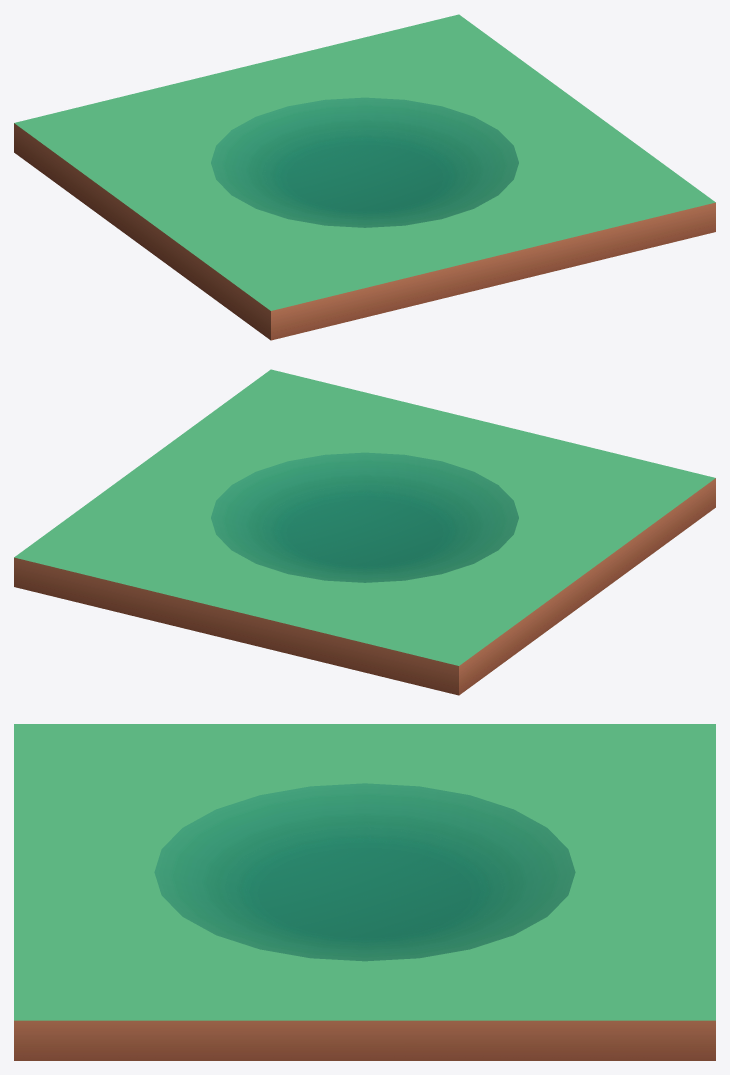
Rendered from bump-down.glb.
3 renders of one model, top to bottom at view 1: azimuth 30°, elevation 25°; view 2: azimuth 150°, elevation 25°; view 3: azimuth 270°, elevation 25°, orthographic. The views are drawn at different scales.
Parts seen in each view (by area): view 1: bump-down; view 2: bump-down; view 3: bump-down.
Part boxes in pixels (box(x1,y1,x2,y2)): bump-down: box(14, 14, 715, 340); bump-down: box(14, 369, 715, 695); bump-down: box(14, 724, 715, 1060).
Size of the model in its own units: 0.9999 by 0.0634 by 0.9999.
Materials: 1 (1 with a texture image).
